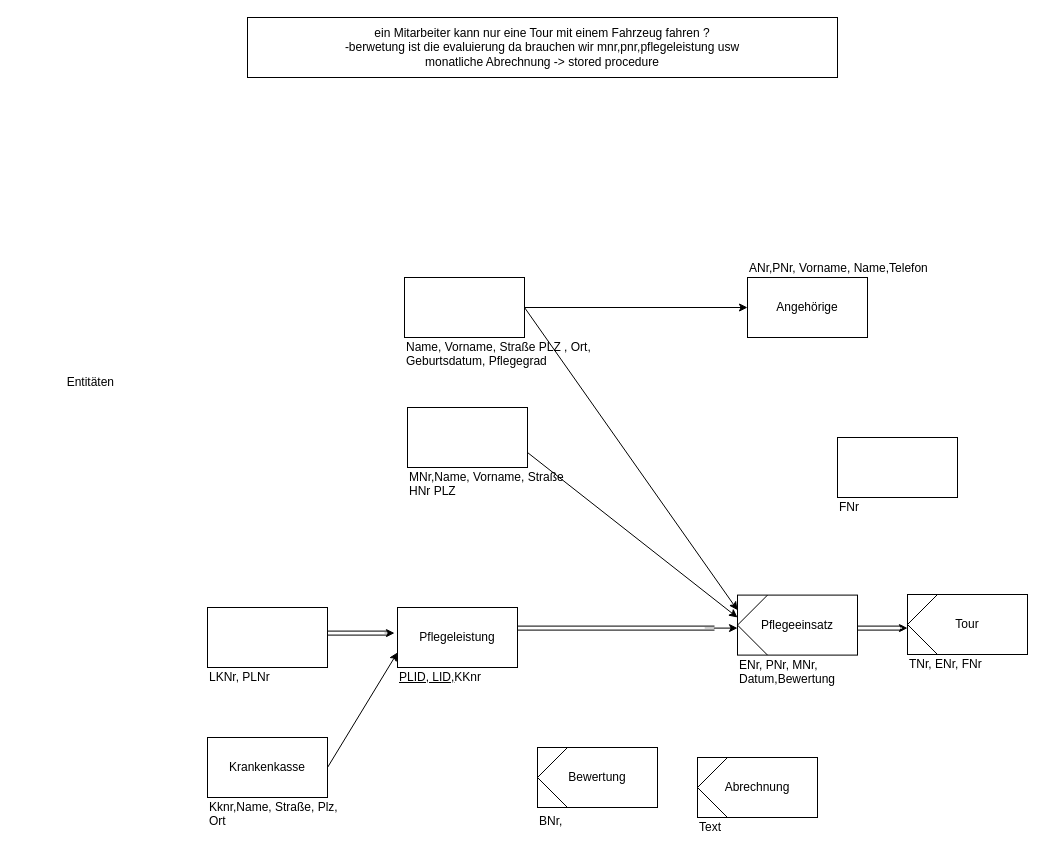
This 1045x852 diagram has some shape labels left out. Each missing label, with the centre of its shape:
Fahrzeug: the point at 897,467
Leistungskatalog: the point at 267,637
Mitarbeiter: the point at 467,437
Patienten: the point at 464,307
